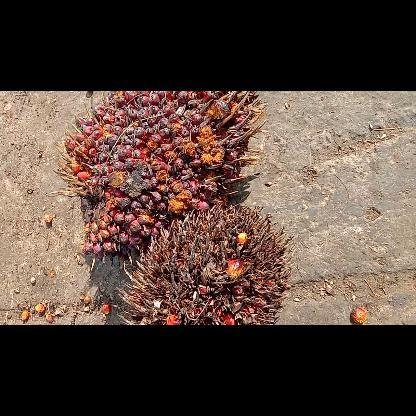TBS masak: (52, 91, 263, 263)
Terlalu masak: (120, 202, 290, 324)
